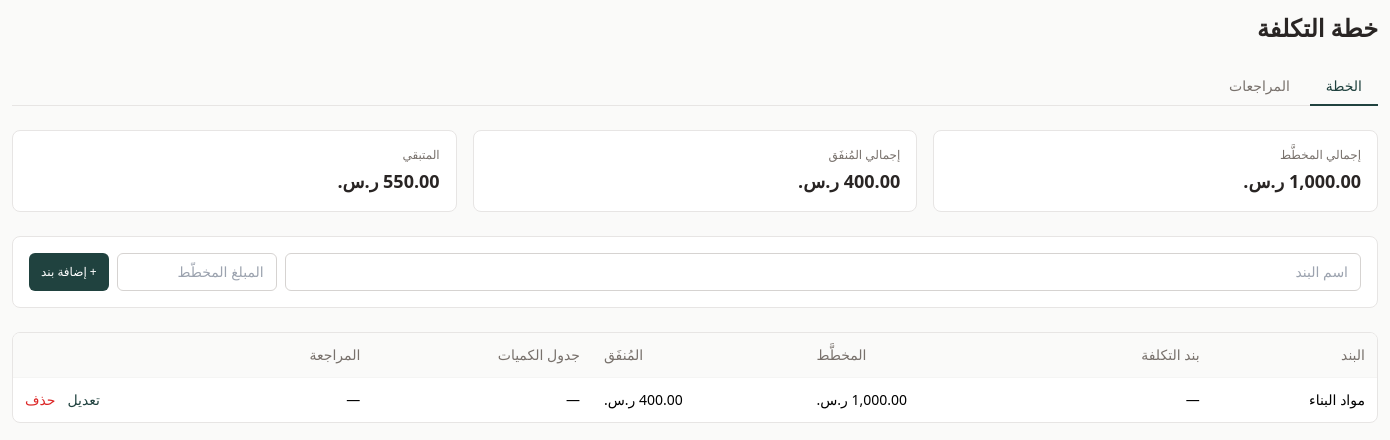
Test: <CostPlanSection/> › renders the revisions tab from backend data
Expected: the text "مواد البناء" is shown, [1212,378,1377,422]
Step 1. Click the tab "المراجعات" → (1259, 87), box [1213,68,1306,106]
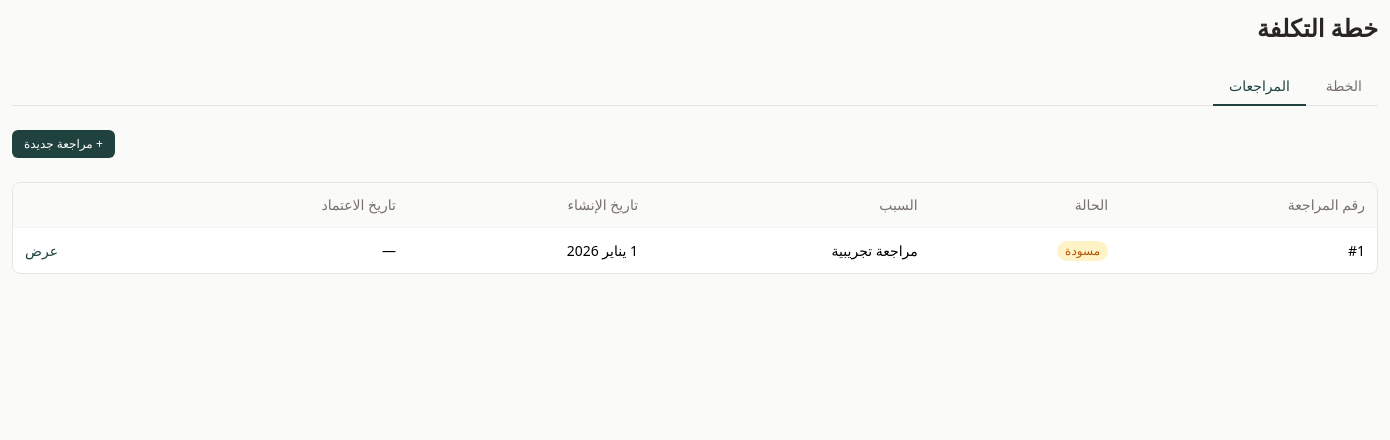
Now the text "#1" is shown, box [1120,228,1377,273]
Now the text "مسودة" is shown, box [1057,241,1108,261]
